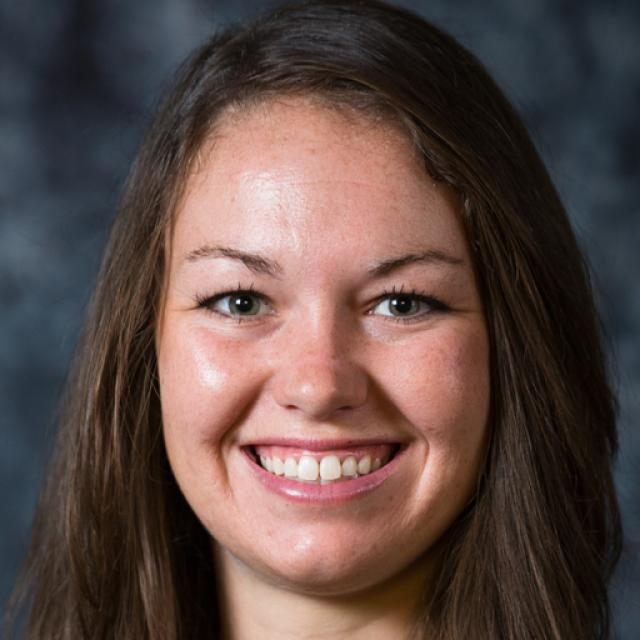Pigmentation: (293, 319, 365, 386)
